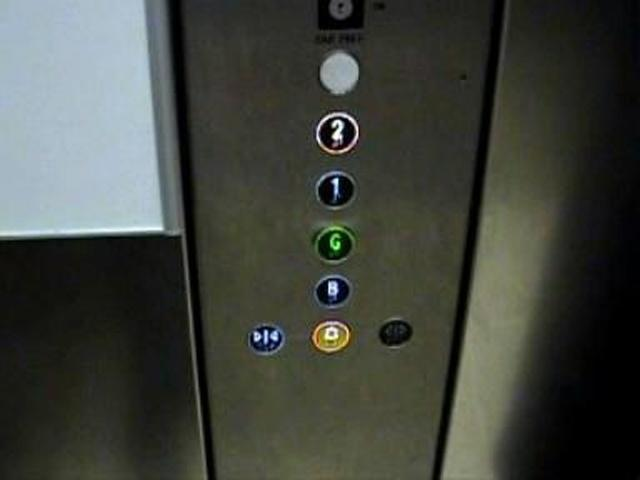1: (311, 168, 358, 210)
2: (312, 109, 360, 156)
B: (310, 271, 355, 311)
G: (310, 223, 358, 267)
alarm: (309, 317, 353, 353)
close: (243, 320, 286, 358)
keyhole: (313, 0, 368, 32)
open: (374, 314, 414, 348)
unknown: (315, 49, 361, 97)
